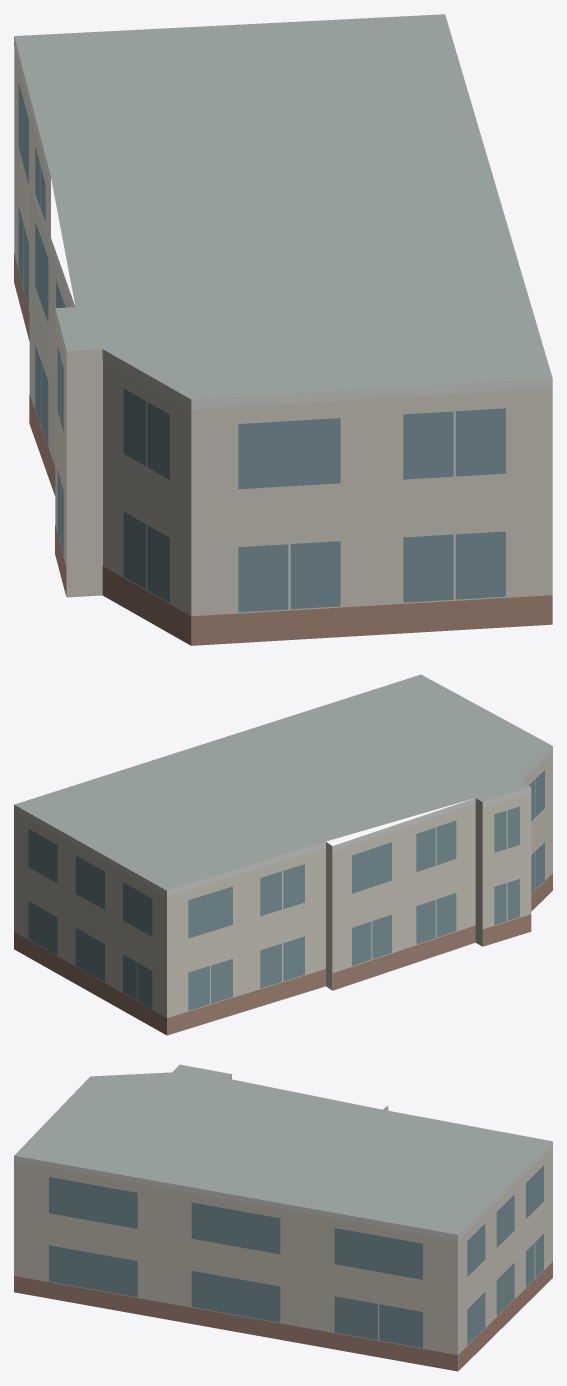
File: survey-upis-33013446.glb
3 renders of one model, top to bottom at view 1: azimuth 30°, elevation 25°; view 2: azimuth 150°, elevation 25°; view 3: azimuth 270°, elevation 25°, orthographic. The views are drawn at different scales.
Visible parts, largest first — view 1: survey-upis-33013446.tmp; view 2: survey-upis-33013446.tmp; view 3: survey-upis-33013446.tmp.
Part boxes in pixels (x1,y1,x2,y2): survey-upis-33013446.tmp: (14, 14, 552, 645); survey-upis-33013446.tmp: (14, 674, 552, 1035); survey-upis-33013446.tmp: (14, 1064, 552, 1371).
Size of the model in its own units: 16.33 by 6.1 by 21.81.
